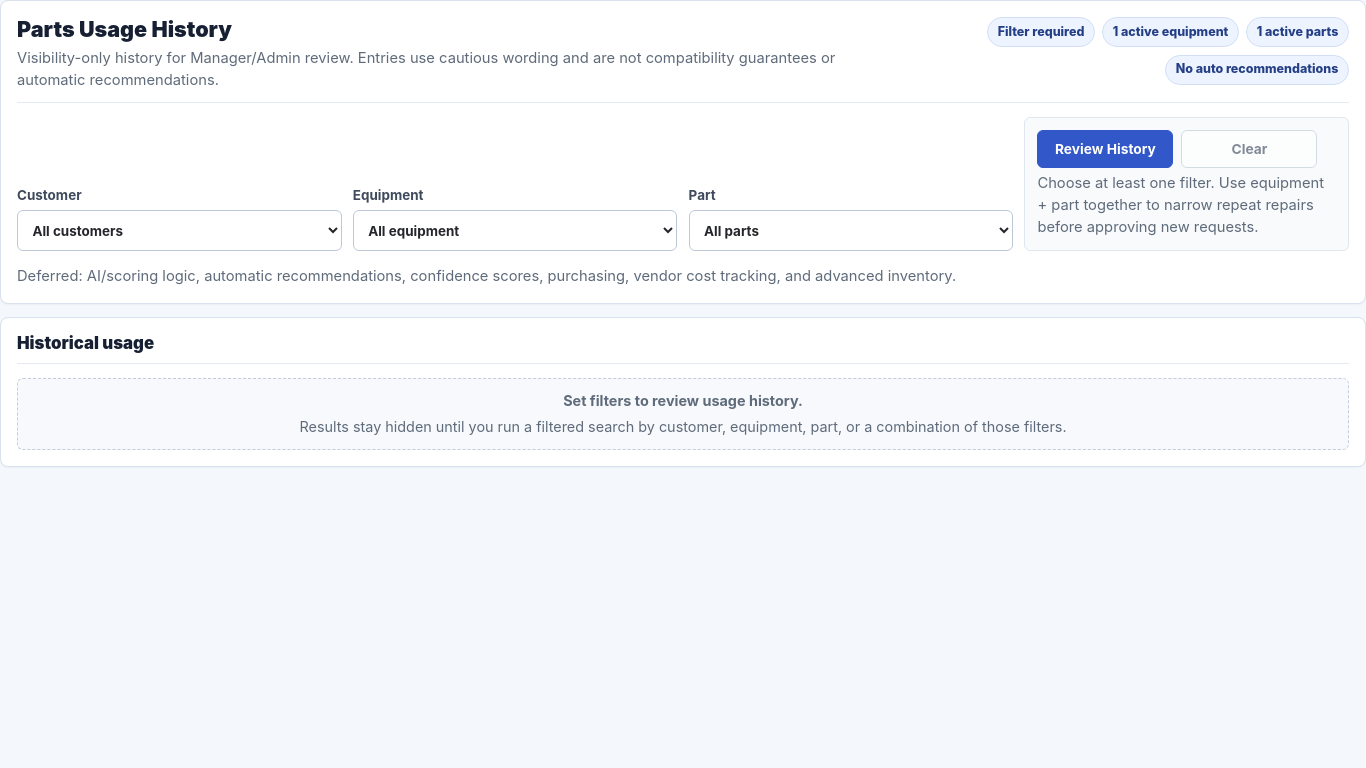
Test: PartsUsageHistoryPage › waits for filters before rendering cautious parts usage history evidence
Expected: the text "Set filters to review usage history." is shown, [563,392,803,409]
Expected: the text "previously used on this equipment" is not shown
Select "Crane A" in the dropdown labelled "Equipment" at [515, 231], box [353,210,677,251]
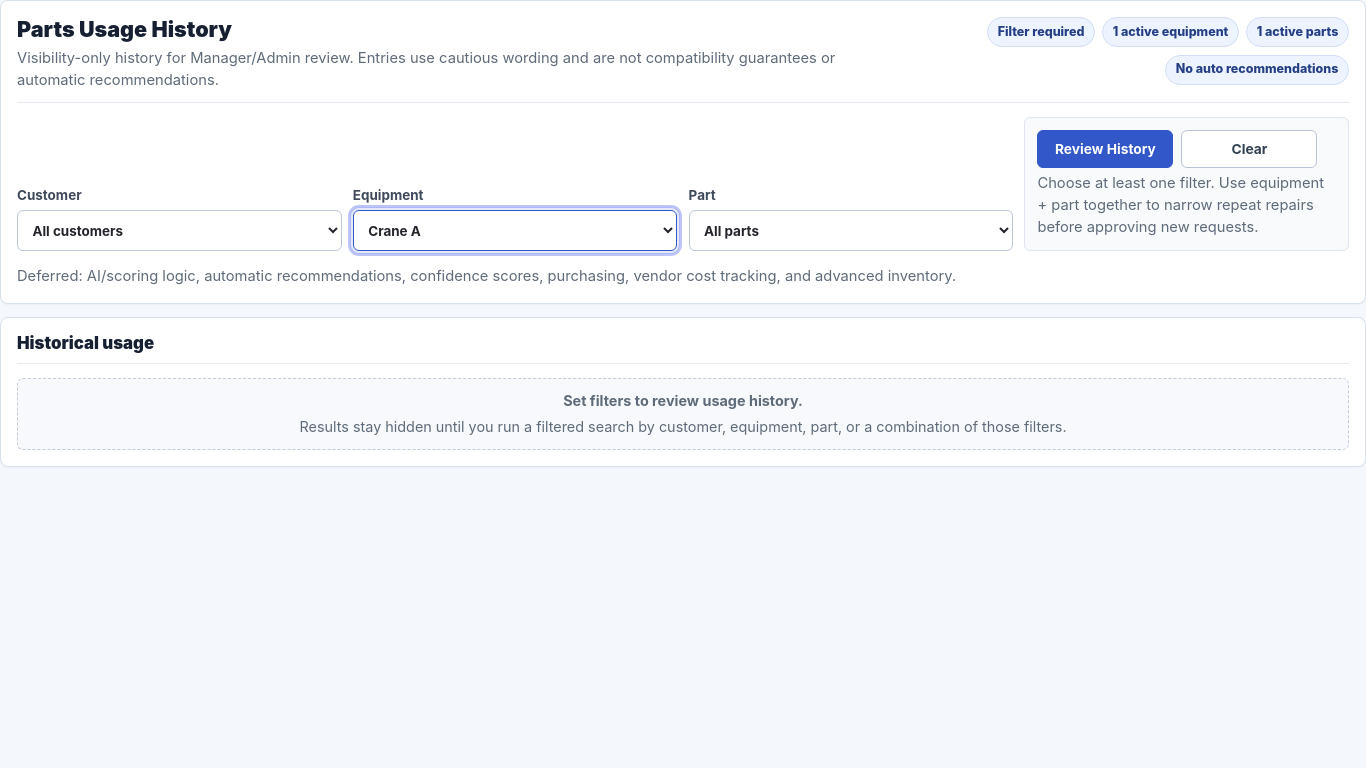
Select "SEAL-1 - Seal Kit" in the dropdown labelled "Part" at [851, 231], box [689,210,1013,251]
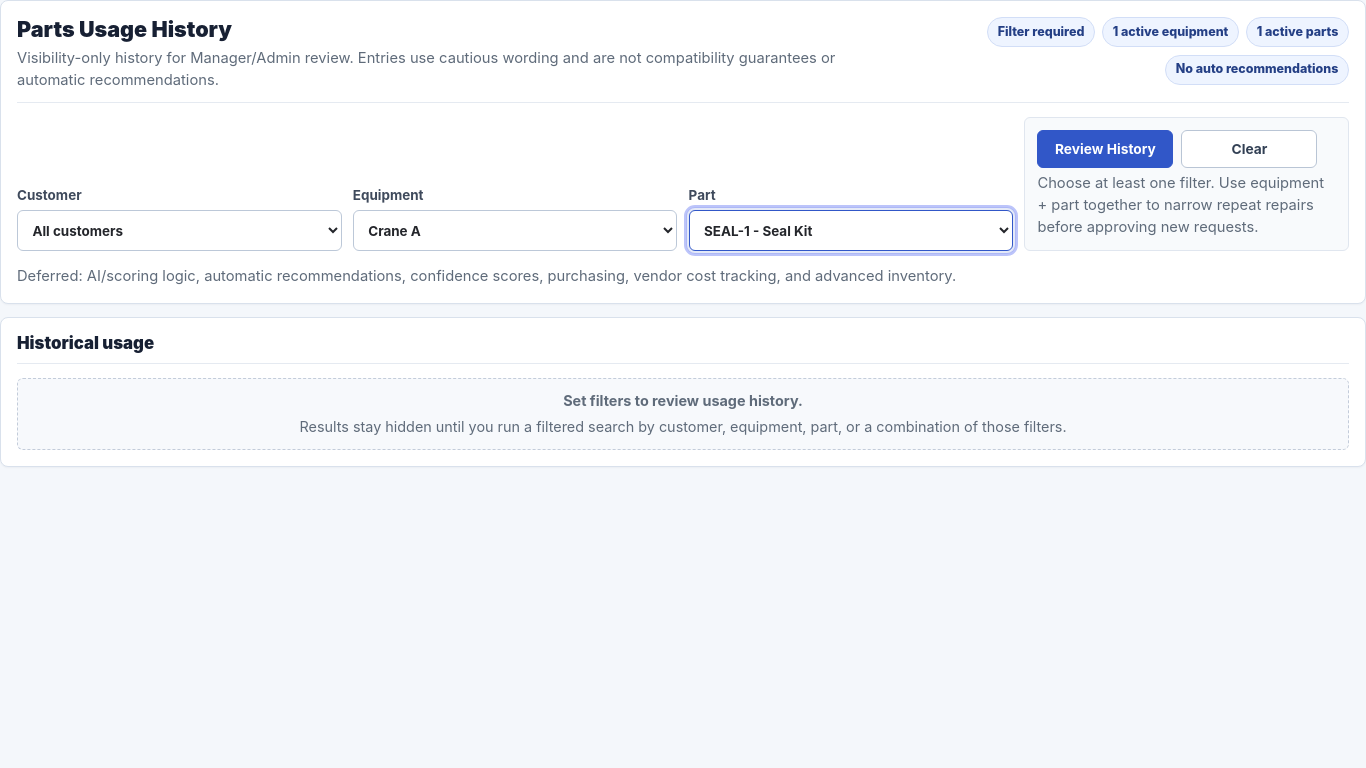
Submit the form named "parts usage history filters", box [17,117,1349,251]
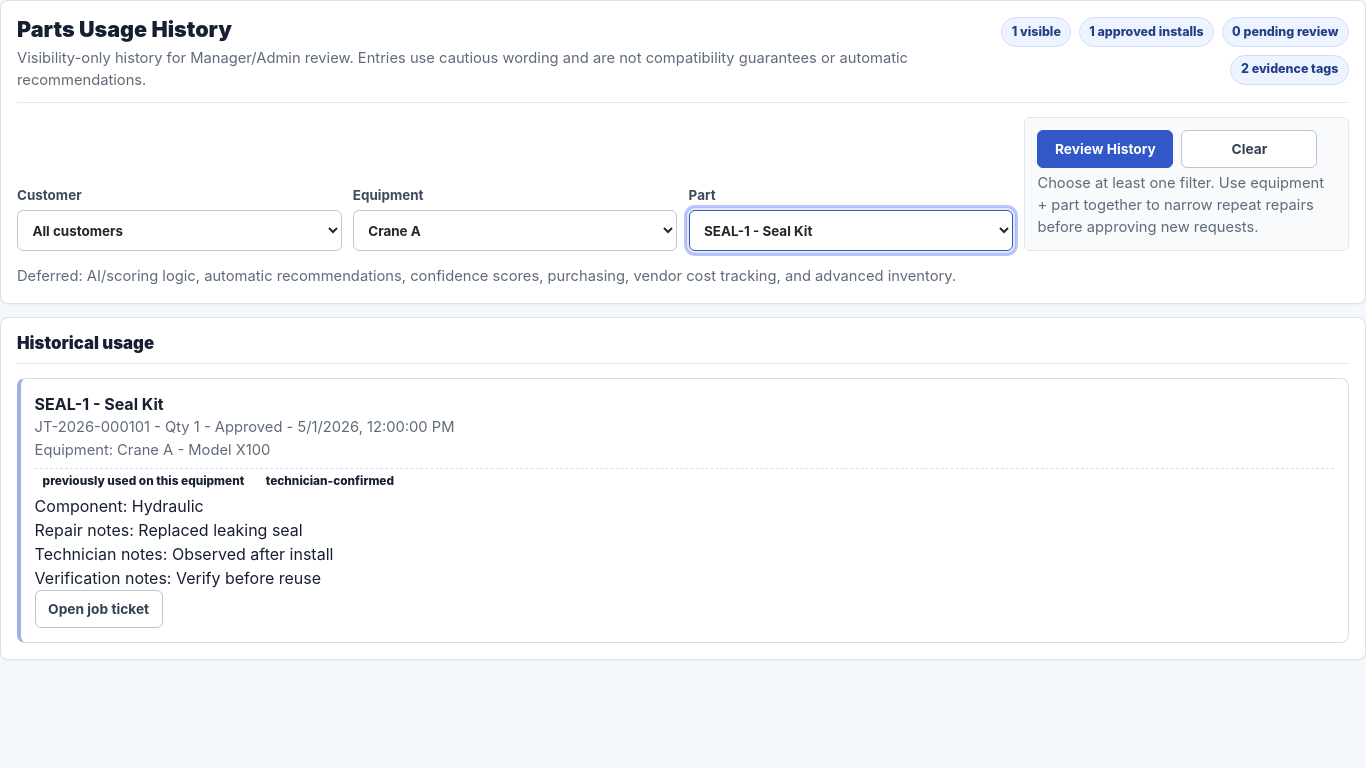
Expected: the text "not compatibility guarantees or automatic recommendations" is shown, [17,49,908,89]
Now the text "previously used on this equipment" is shown, box [43,474,244,488]
Now the text "technician-confirmed" is shown, box [266,474,394,488]
